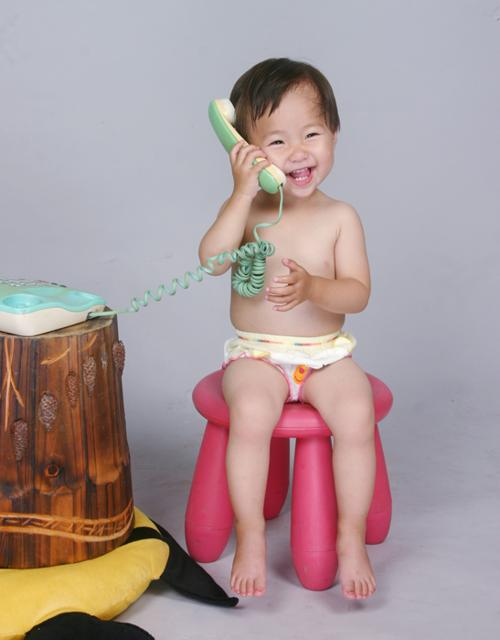person: (198, 59, 378, 602)
